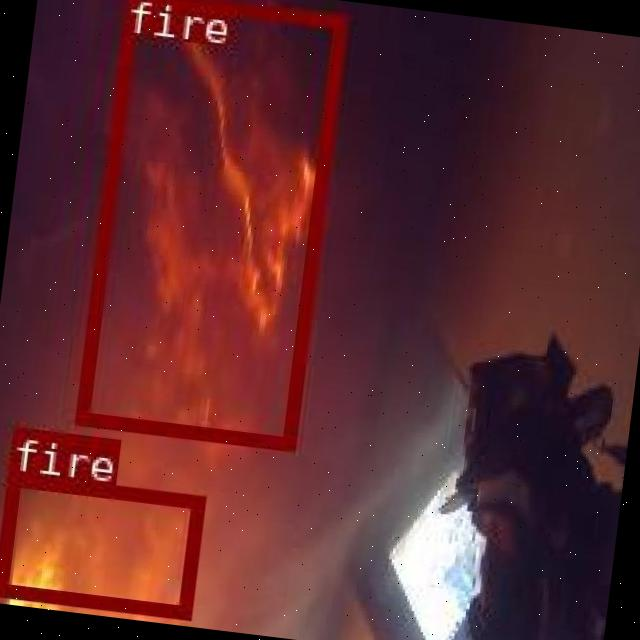fire: (72, 0, 344, 447), (0, 469, 202, 616)
